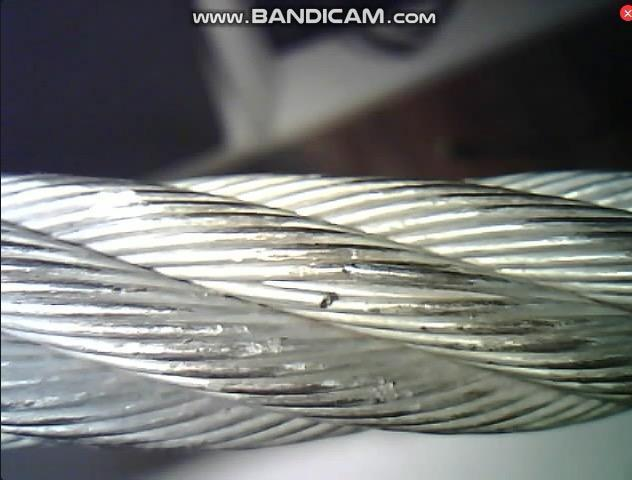break: (293, 253, 370, 326)
